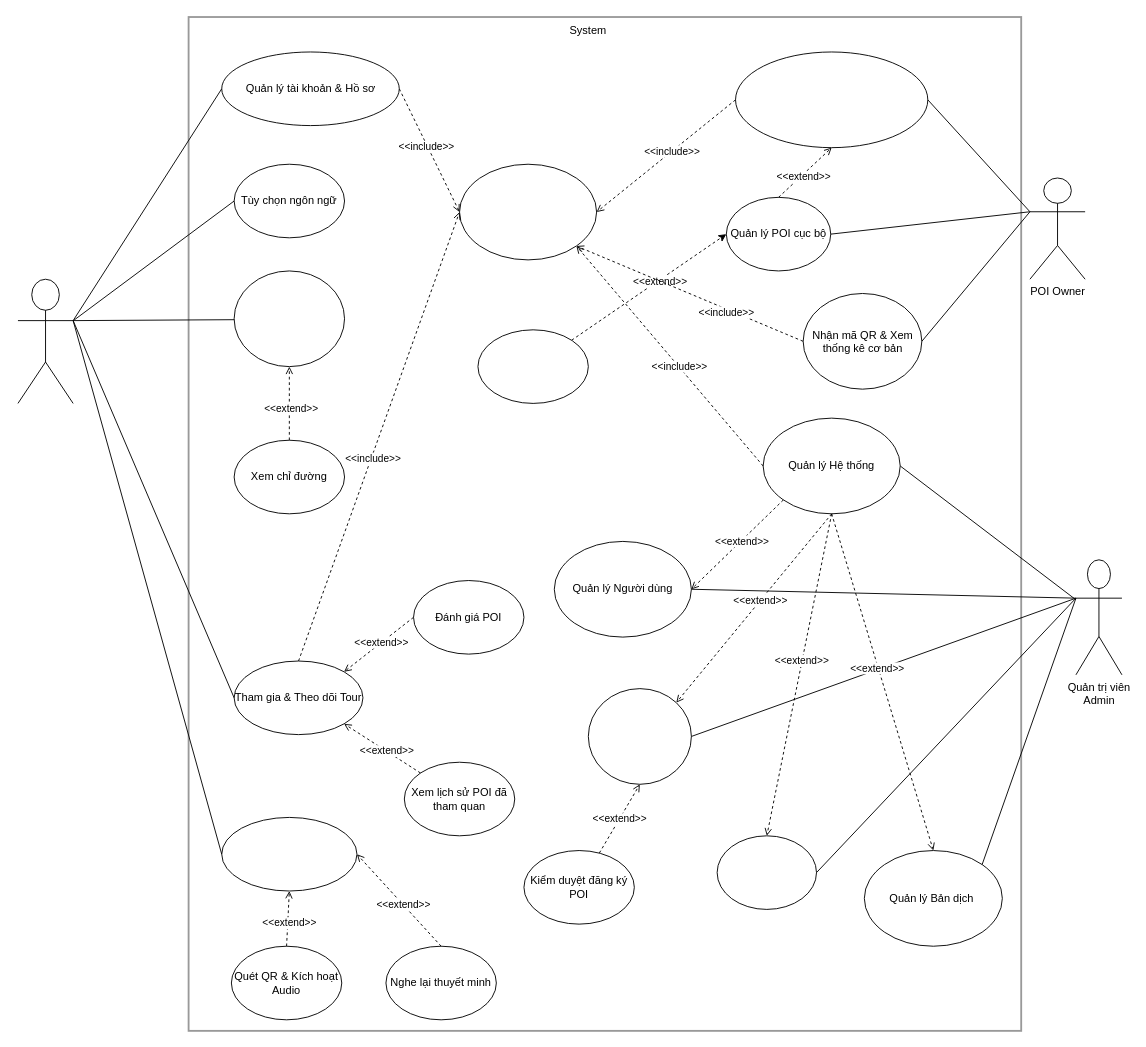
Image size: 1146x1047. Some labels were removed from this diagram. Each missing label, with the centre of its shape:
Chỉnh sửa nội dung thuyết minh: the point at 532,366
Khách hàng End-User: the point at 45,340
Khám phá Bản đồ & Chi tiết POI: the point at 289,318
Nghe thuyết minh tự động: the point at 289,853
Quản lý toàn cục POI & Tour: the point at 639,736
Quản lý trạng thái & Thông tin POI: the point at 831,99
Xem Dashboard & Analytics: the point at 766,872
Đăng nhập: the point at 528,211
